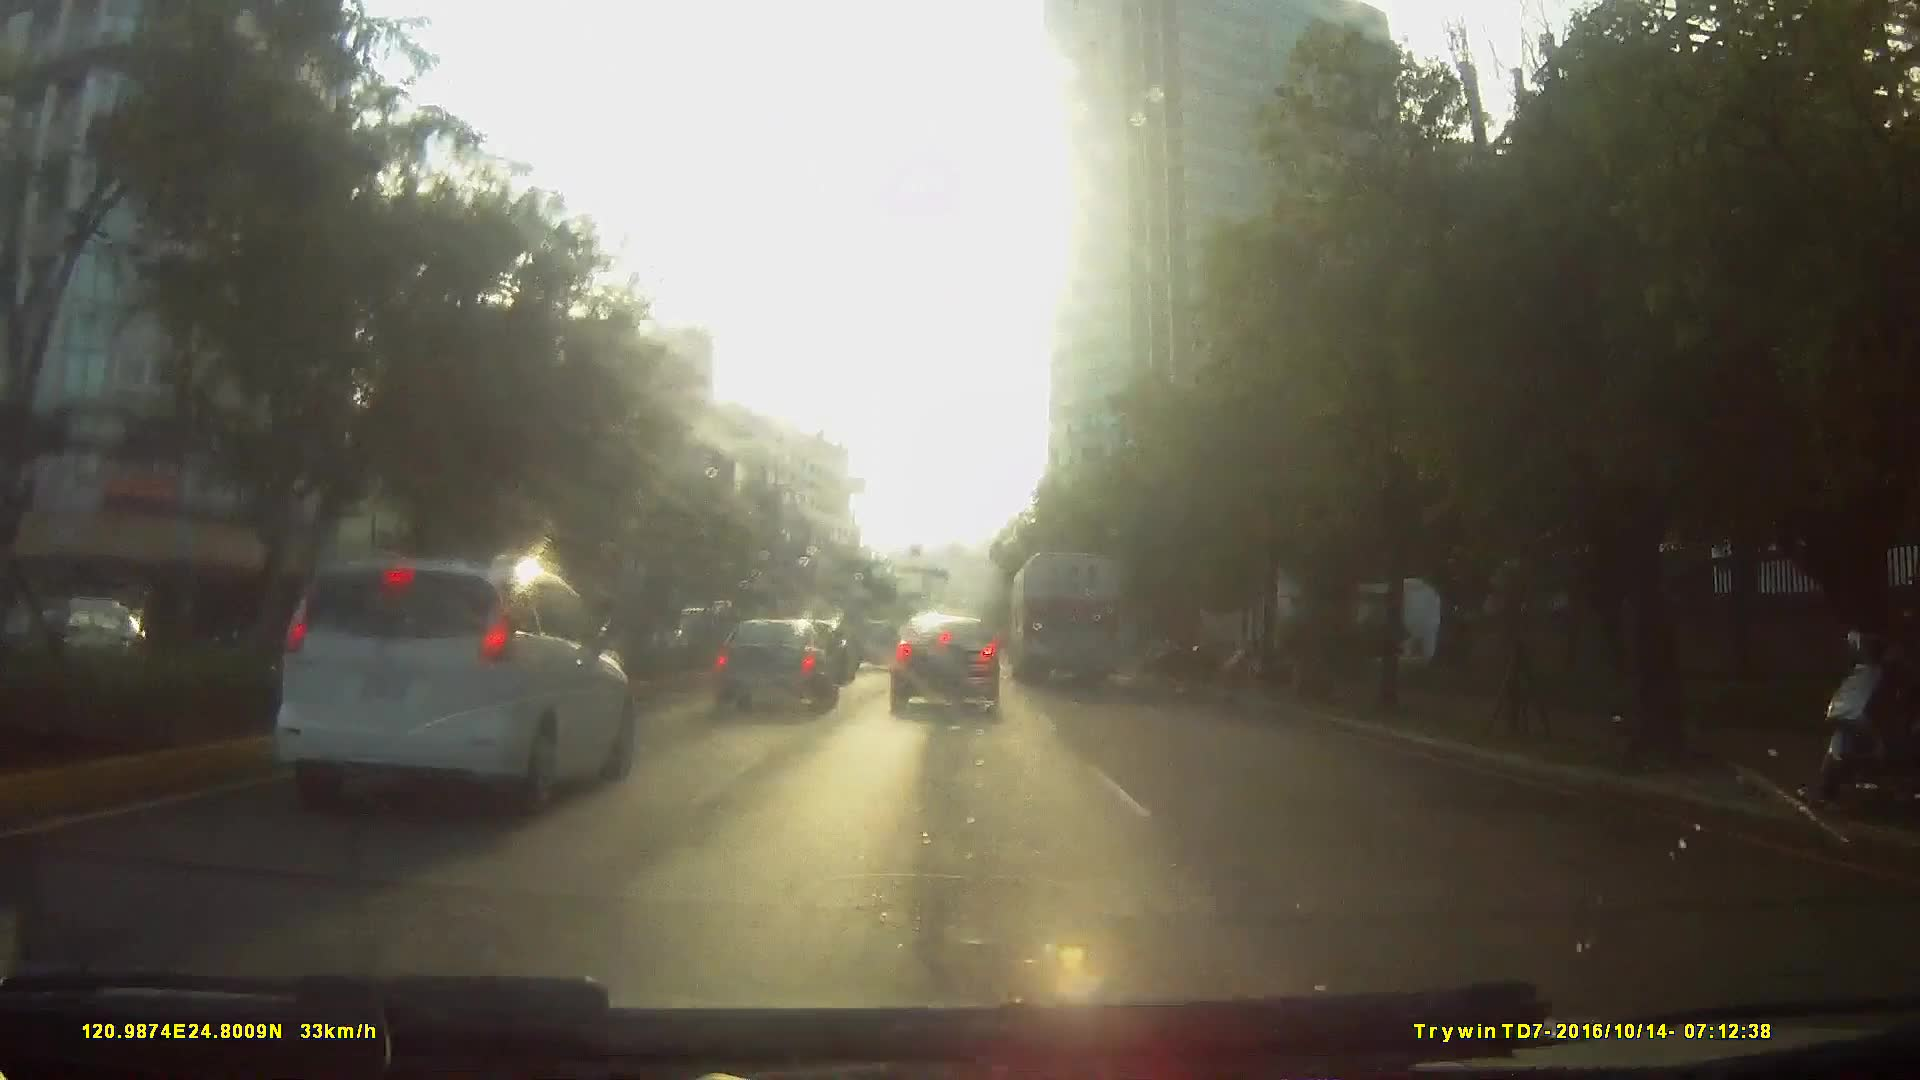vehicle: (251, 556, 684, 868), (253, 551, 644, 824), (1010, 550, 1124, 687), (709, 616, 843, 716), (891, 611, 1004, 716), (848, 618, 902, 673)
